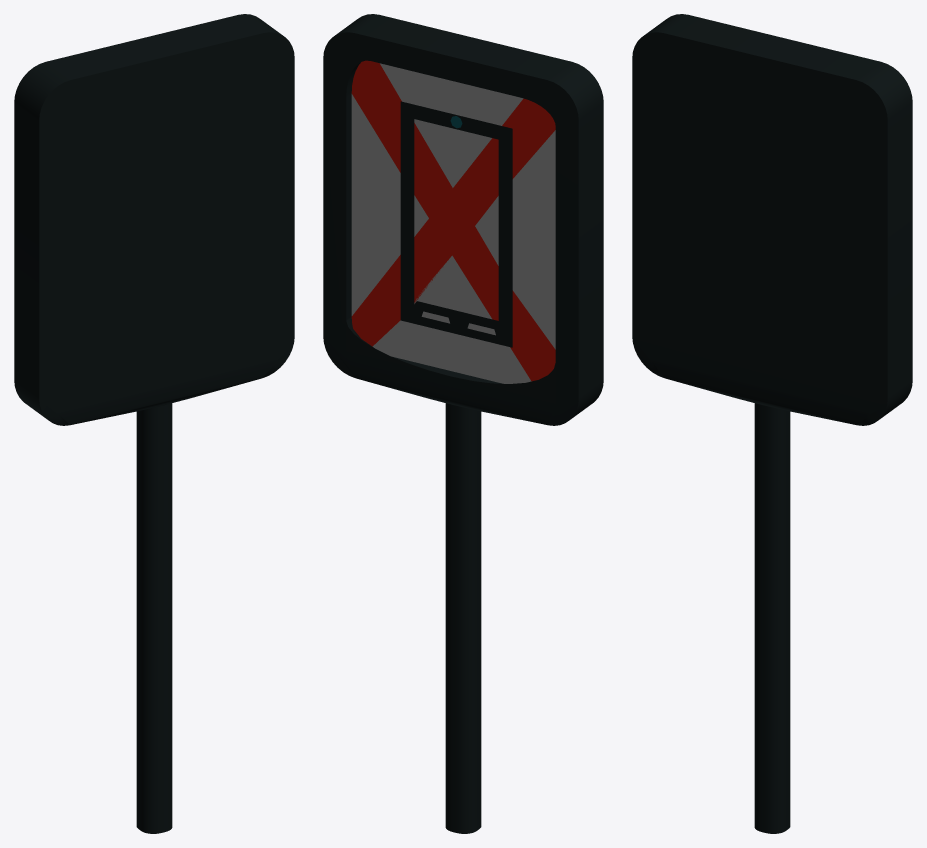
File: Placa Zona.fbx
3 views of the same model, side by side, from view 1: azimuth 30°, elevation 25°; view 2: azimuth 150°, elevation 25°; view 3: azimuth 330°, elevation 25° (orthographic).
Visible parts, largest first — view 1: Cube.146; view 2: Cube.146; view 3: Cube.146.
Boxes of the visible parts, x1,y1,x2,y2 form: Cube.146: (14, 14, 294, 833); Cube.146: (323, 14, 603, 833); Cube.146: (632, 14, 912, 833).
Bounding box in the file's own units: 394 × 1148 × 66.61.
